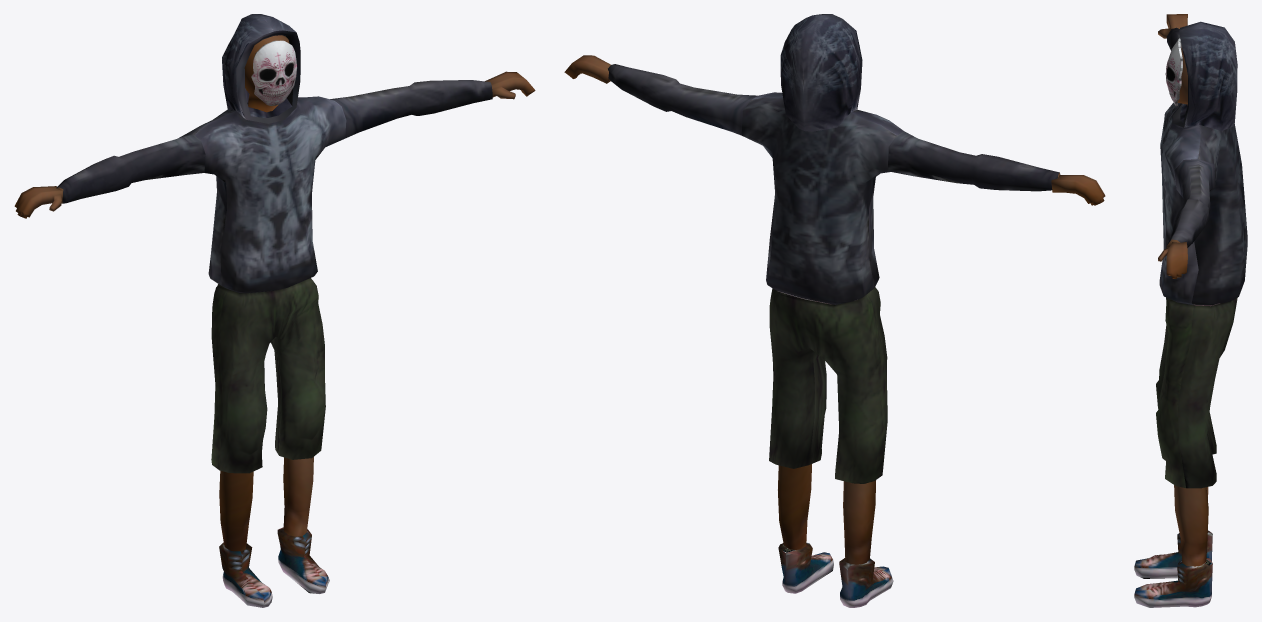
Rendered from sinner_2.FBX.
The picture shows the model from 3 angles, left to right: view 1: azimuth 30°, elevation 25°; view 2: azimuth 150°, elevation 25°; view 3: azimuth 270°, elevation 25°; orthographic projection. The views are drawn at different scales.
Parts seen in each view (by area): view 1: sinner_3; view 2: sinner_3; view 3: sinner_3.
Boxes of the visible parts, left/top/right/bottom form: sinner_3: left=14, top=14, right=535, bottom=607; sinner_3: left=564, top=14, right=1105, bottom=607; sinner_3: left=1134, top=14, right=1247, bottom=607.
Size of the model in its own units: 190 by 197 by 35.92.
